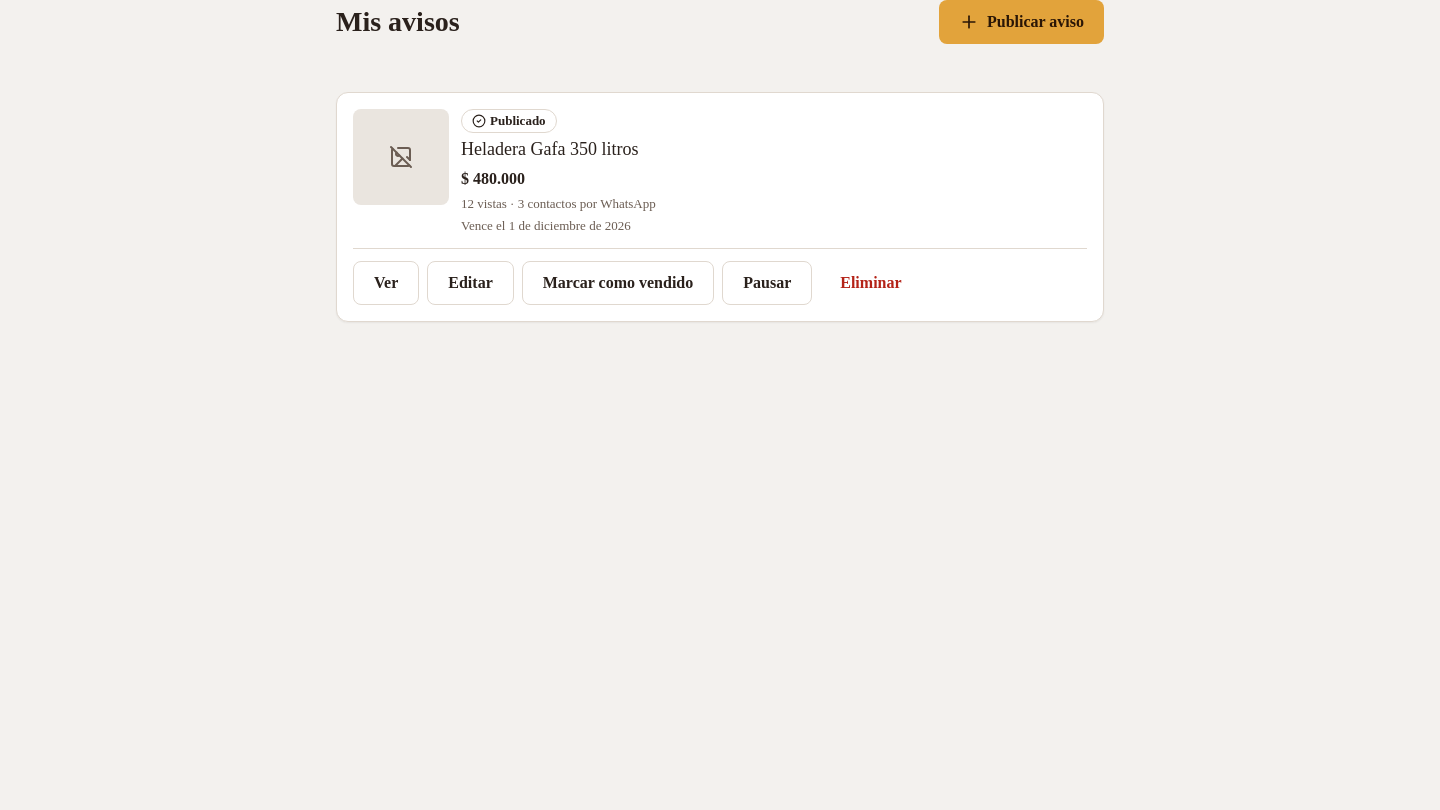
Test: MisAvisosPage — más estados y errores › muestra el error si falla la eliminación y conserva el aviso
What coordinates should you click on to do the following:
click the button "Eliminar"
I would click on:
 (871, 283)
Its box is x1=820 y1=261 x2=922 y2=305.
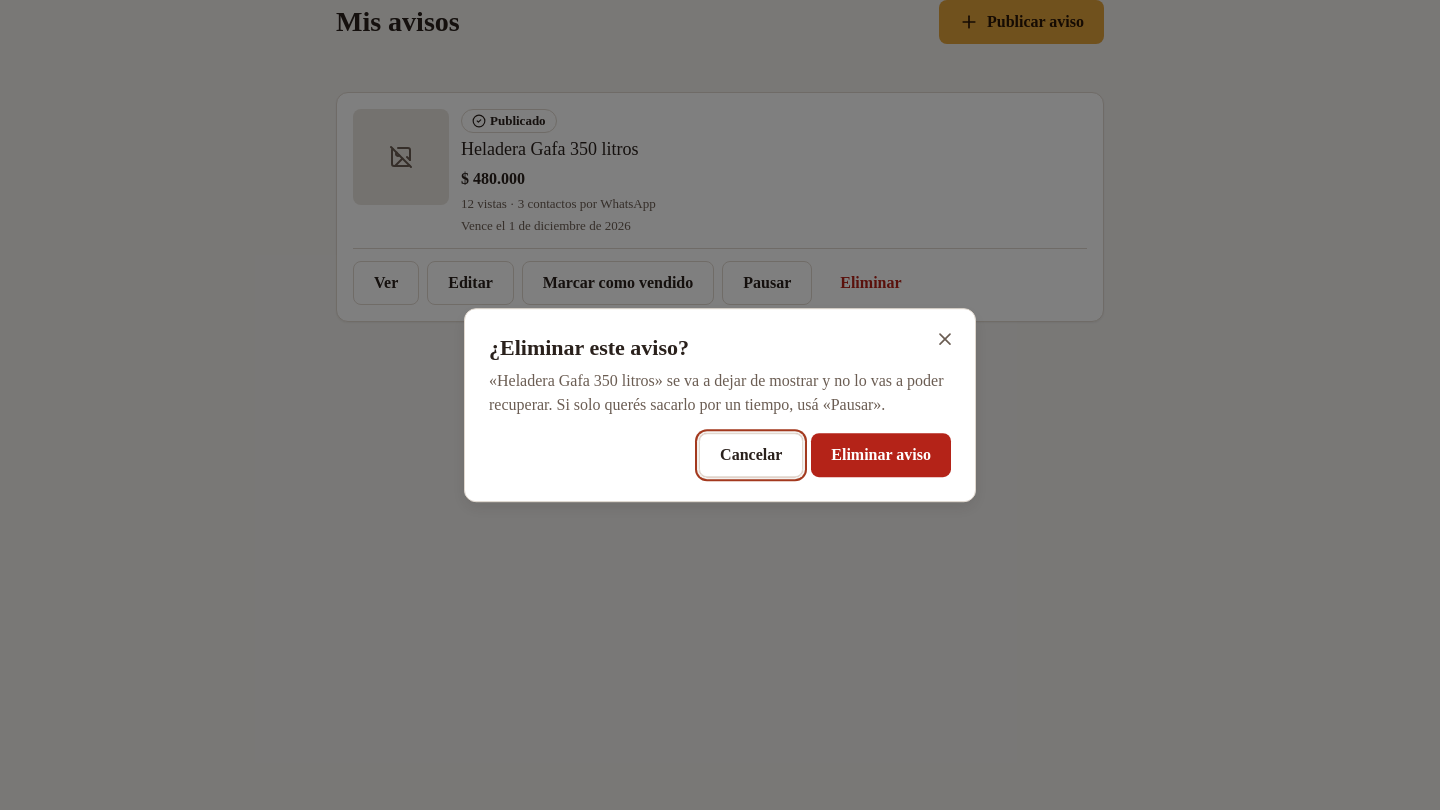
What coordinates should you click on to do the following:
click the button "Eliminar aviso"
I would click on:
 (881, 455)
Its box is x1=811 y1=433 x2=951 y2=477.
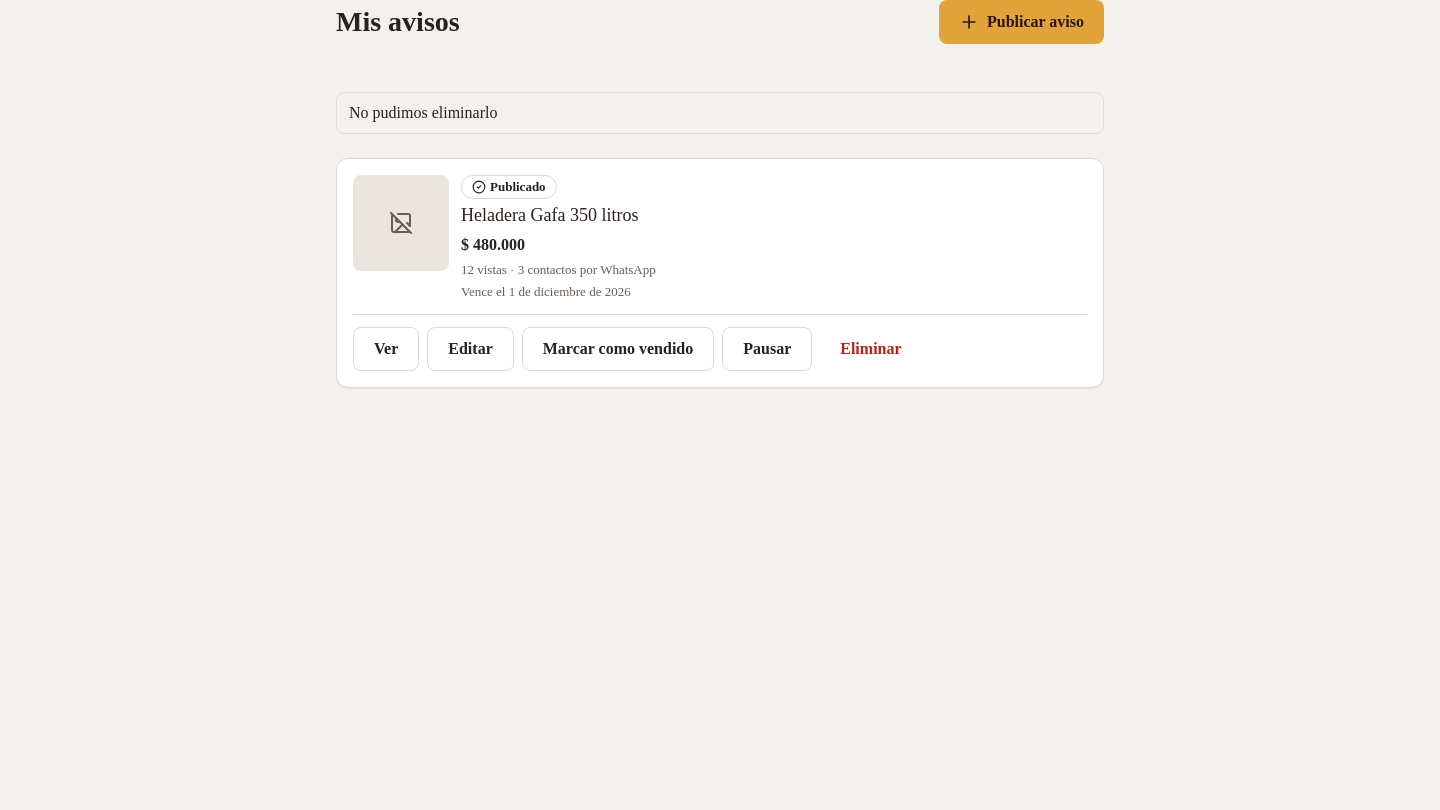
Expected: the element "Heladera Gafa 350 litros" is shown, x1=336 y1=158 x2=1104 y2=388
Expected: the dialog is gone
Expected: the message reads "No pudimos eliminarlo", x1=349 y1=104 x2=497 y2=121
